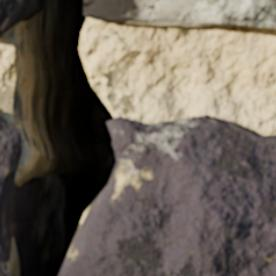broken_brick: (61, 115, 275, 275), (88, 0, 275, 25), (0, 113, 19, 275), (0, 0, 29, 38), (100, 19, 198, 27)
crack: (1, 0, 275, 275)
